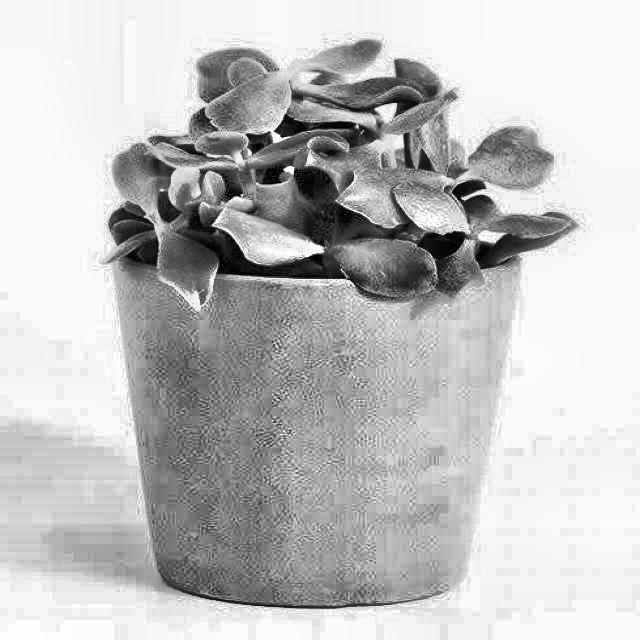plants: (104, 41, 562, 586)
